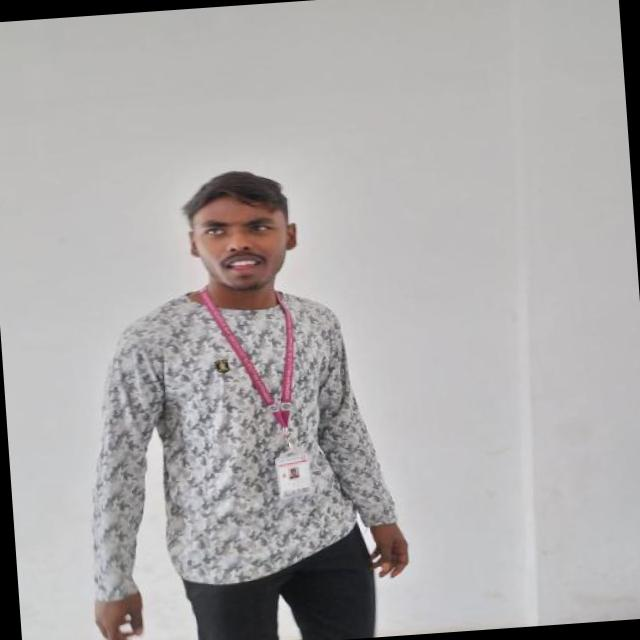id_card: (201, 278, 316, 504)
